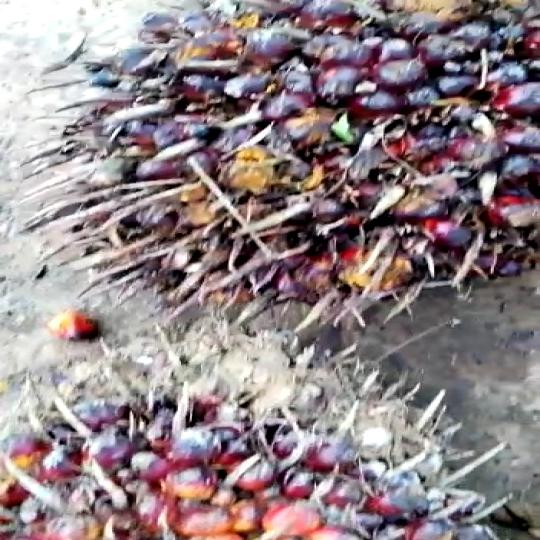masak: (56, 0, 538, 314), (0, 326, 540, 540)
